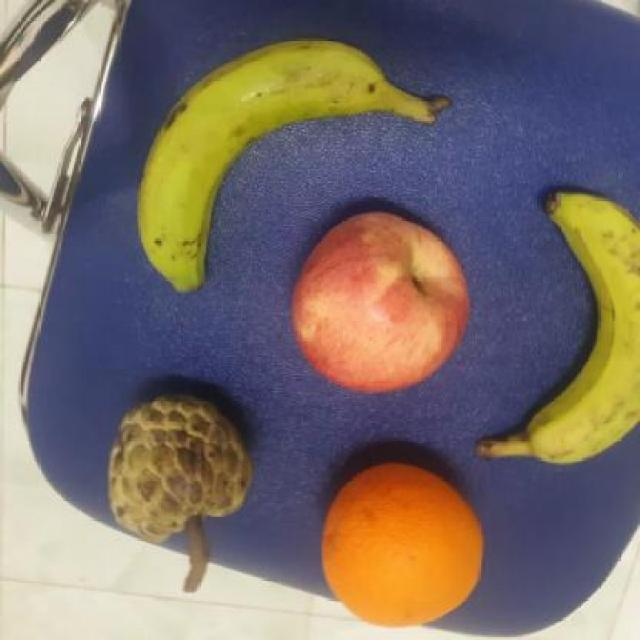apple: (285, 203, 472, 394)
banana: (133, 43, 456, 294), (475, 188, 639, 467)
oren: (317, 454, 486, 631)
sugar apple: (102, 392, 256, 546)
